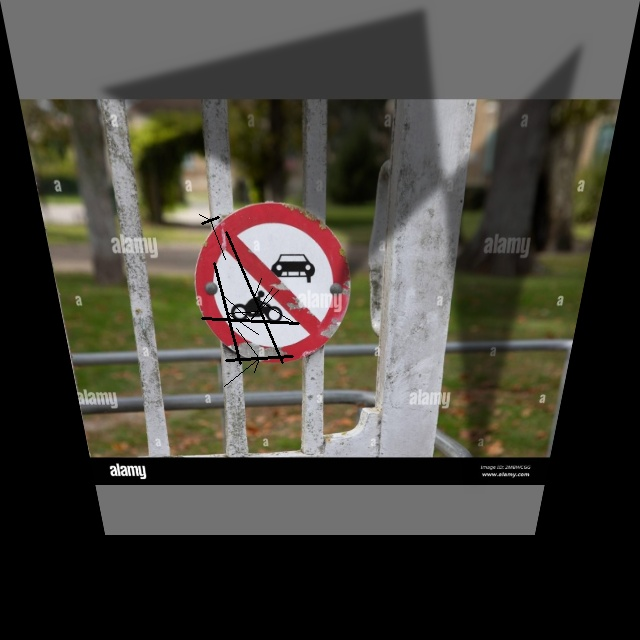All_Motor_Vehicles_Prohibited: (186, 205, 348, 364)
